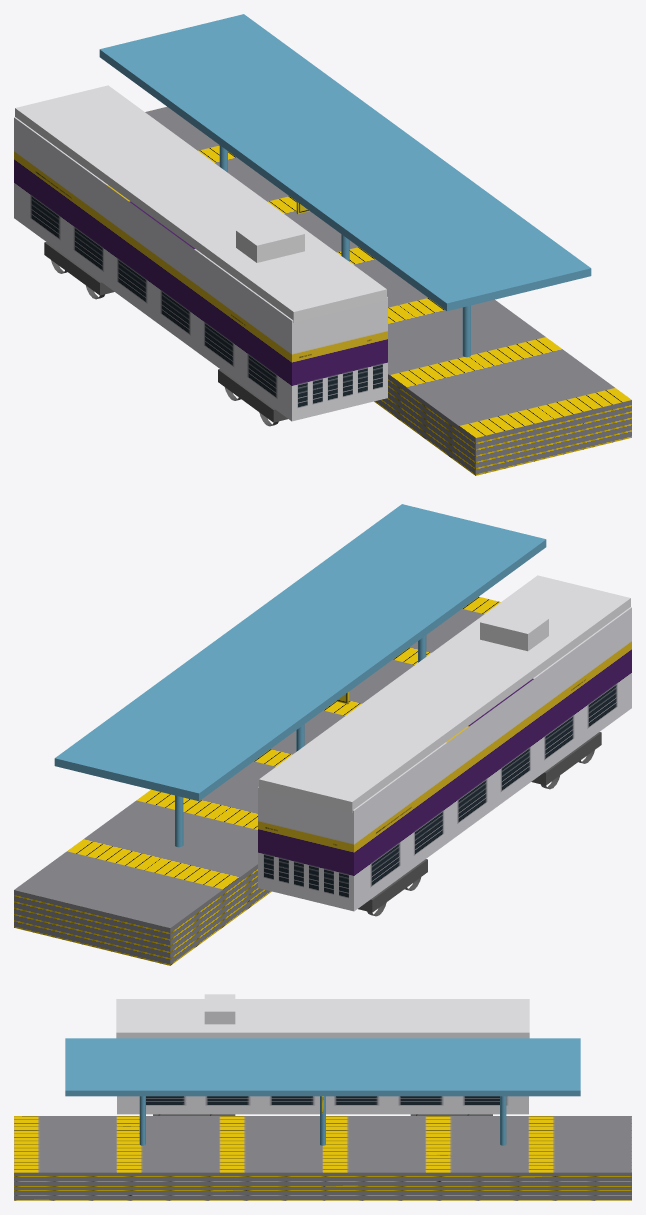
File: mumbai_local_train.glb
3 renders of one model, top to bottom at view 1: azimuth 30°, elevation 25°; view 2: azimuth 150°, elevation 25°; view 3: azimuth 270°, elevation 25°, orthographic. The views are drawn at different scales.
Parts seen in each view (by area): view 1: Station_Shelter, EMU_Coach, Station_Platform, EMU_Roof, EMU_Bogies, EMU_Pantograph; view 2: Station_Shelter, EMU_Coach, Station_Platform, EMU_Roof, EMU_Bogies, EMU_Pantograph; view 3: Station_Platform, Station_Shelter, EMU_Roof, EMU_Coach, EMU_Pantograph, EMU_Bogies.
Boxes of the visible parts, x1,y1,x2,y2 form: Station_Shelter: (99, 14, 591, 357); EMU_Coach: (14, 117, 387, 421); Station_Platform: (145, 107, 631, 475); EMU_Roof: (15, 85, 386, 322); EMU_Bogies: (44, 242, 287, 426); EMU_Pantograph: (236, 219, 304, 262); Station_Shelter: (54, 504, 546, 847); EMU_Coach: (258, 607, 631, 911); Station_Platform: (14, 597, 500, 965); EMU_Roof: (259, 575, 630, 812); EMU_Bogies: (358, 732, 601, 916); EMU_Pantograph: (480, 607, 548, 651); Station_Platform: (14, 1116, 631, 1200); Station_Shelter: (65, 1038, 580, 1145); EMU_Roof: (116, 999, 529, 1038); EMU_Coach: (117, 1096, 528, 1114); EMU_Pantograph: (204, 994, 235, 1024); EMU_Bogies: (153, 1114, 492, 1115).
Bounding box in the file's own units: 9 × 5.03 × 24.
Materials: 6 (3 with a texture image).
